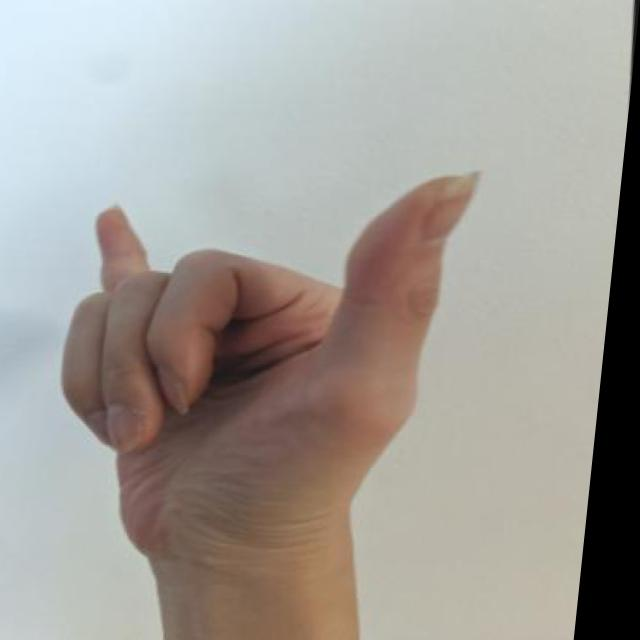Y: (32, 154, 513, 575)
